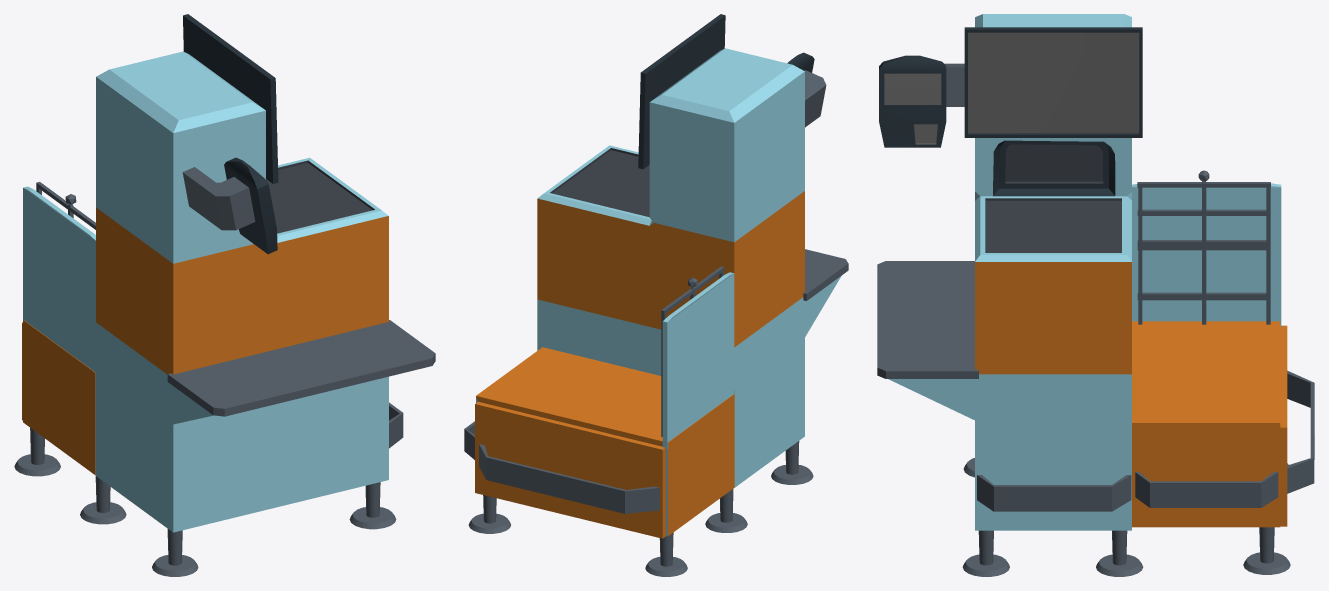
File: SelfCheckoutMachine.fbx_Mesh.fbx
3 views of the same model, side by side, from view 1: azimuth 30°, elevation 25°; view 2: azimuth 150°, elevation 25°; view 3: azimuth 270°, elevation 25° (orthographic). The views are drawn at different scales.
Parts seen in each view (by area): view 1: SelfCheckout; view 2: SelfCheckout; view 3: SelfCheckout.
Part boxes in pixels (x1,y1,x2,y2): SelfCheckout: (14,14,435,576); SelfCheckout: (464,14,848,576); SelfCheckout: (877,14,1314,576).
Bounding box in the file's own units: 184 × 333 × 273.
